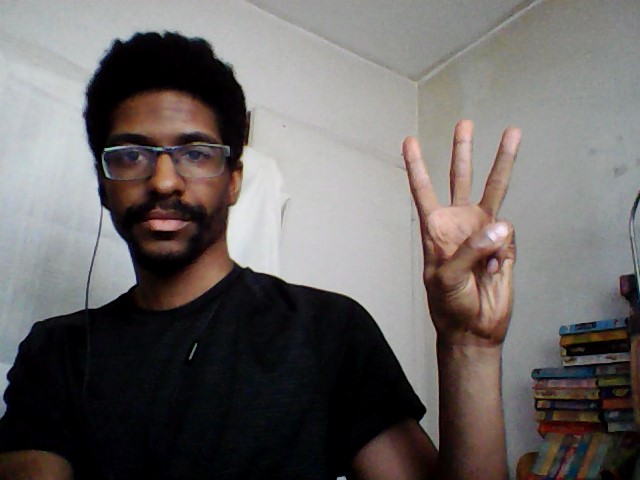w: (397, 114, 523, 351)
